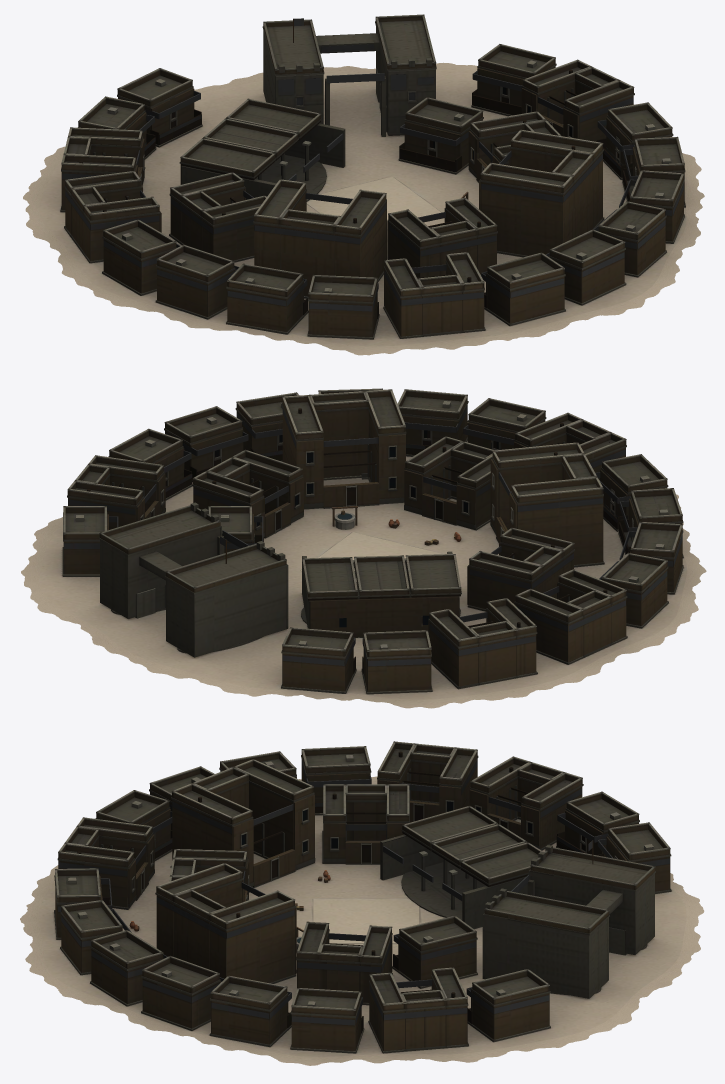
File: bronze-town-big-b-israelite.glb
The picture shows the model from 3 angles, top to bottom: view 1: azimuth 30°, elevation 25°; view 2: azimuth 150°, elevation 25°; view 3: azimuth 270°, elevation 25°; orthographic projection.
Parts seen in each view (by area): view 1: LOD0; view 2: LOD0; view 3: LOD0.
Boxes of the visible parts, left/top/right/bottom form: LOD0: left=23, top=14, right=704, bottom=355; LOD0: left=21, top=388, right=706, bottom=708; LOD0: left=20, top=741, right=704, bottom=1065.
Size of what is drawn, in the model's own units: 7.95 by 1.25 by 7.89.
Materials: 3 (3 with a texture image).
